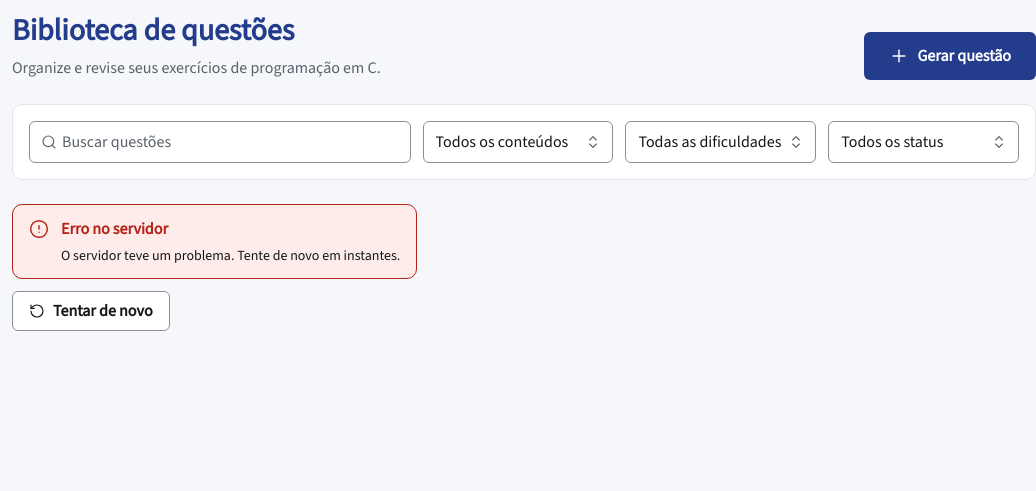
Test: LibraryView › explica a falha e permite tentar de novo
expect the message shows "Erro no servidor": met, box [61,218,168,239]
Click the button "Tentar de novo": x=91, y=311 [12,291,170,331]
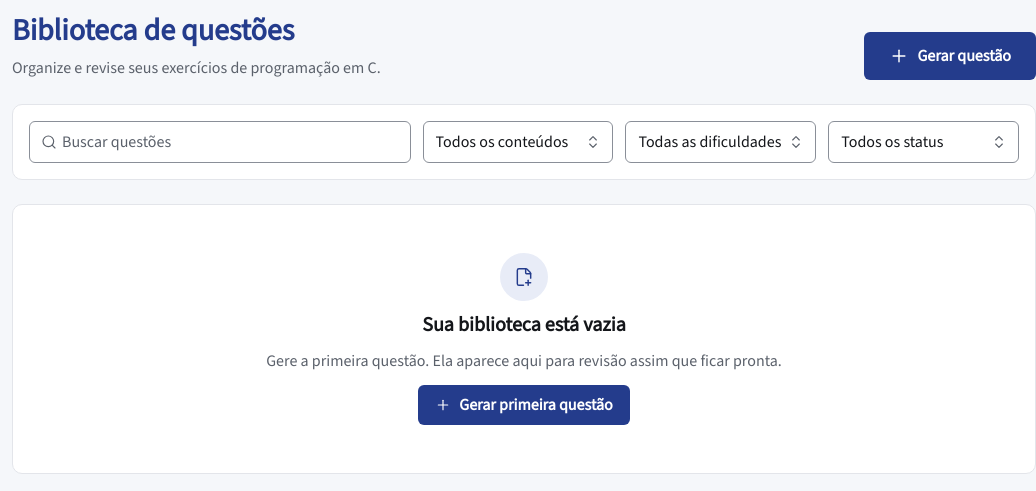
expect the heading "Sua biblioteca está vazia" is shown: met, box [422,313,626,337]
